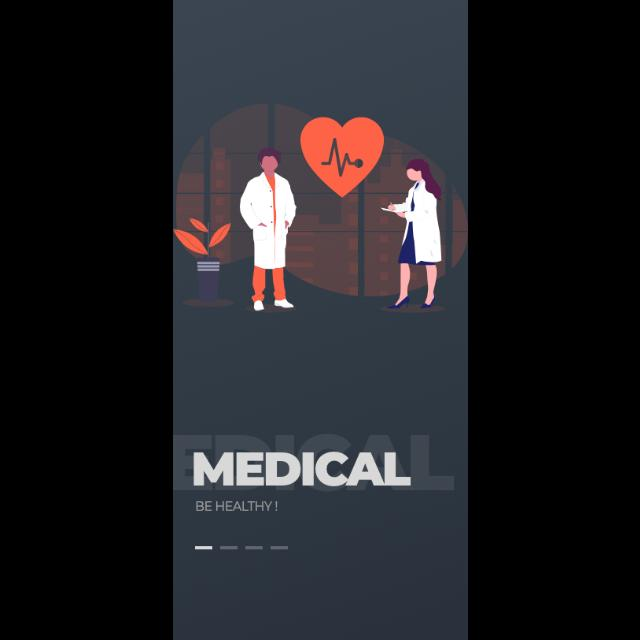image: (173, 103, 467, 313)
pageindicator: (195, 546, 288, 550)
text: (193, 452, 411, 486), (195, 501, 277, 512)
